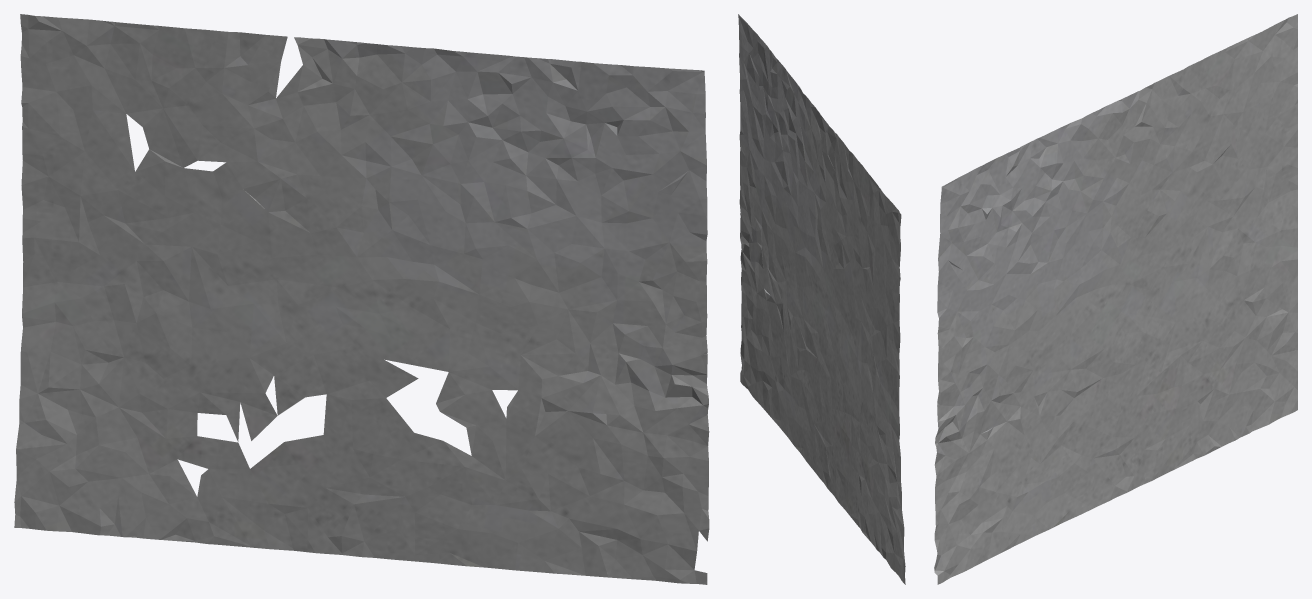
The picture shows the model from 3 angles, left to right: view 1: azimuth 30°, elevation 25°; view 2: azimuth 150°, elevation 25°; view 3: azimuth 270°, elevation 25°; orthographic projection. The views are drawn at different scales.
Size of the model in its own units: 0.7887 by 0.8374 by 0.6931.
Materials: 3 (3 with a texture image).
